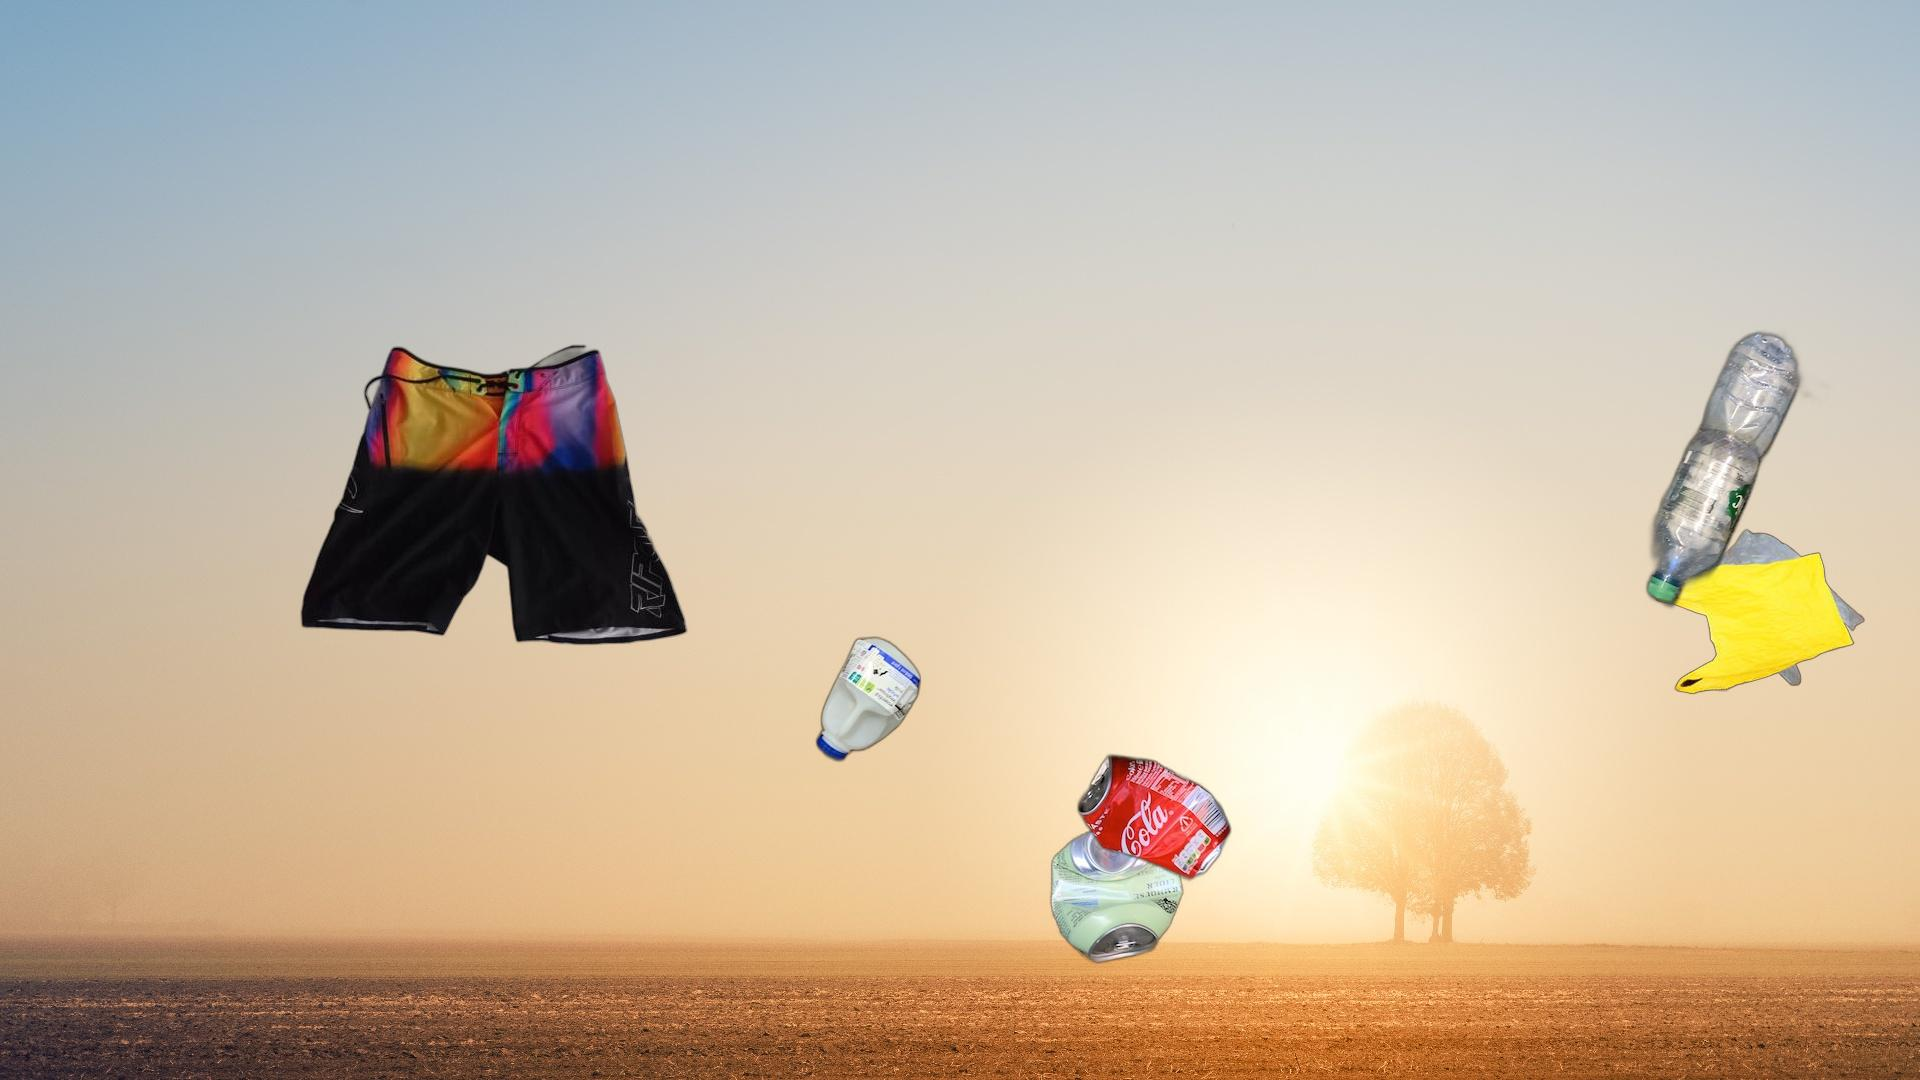clothes: (297, 342, 690, 647)
metal-cans: (1046, 353, 1482, 969), (1073, 748, 1236, 885)
plastic-bag: (1654, 526, 1867, 698)
plastic-bottles: (811, 223, 1234, 767), (1642, 323, 1836, 613)
